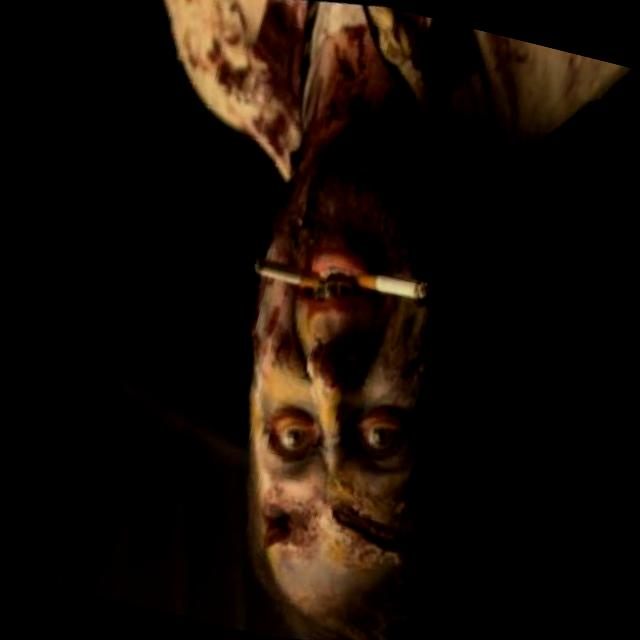smoke: (248, 240, 332, 300), (351, 256, 440, 312)
